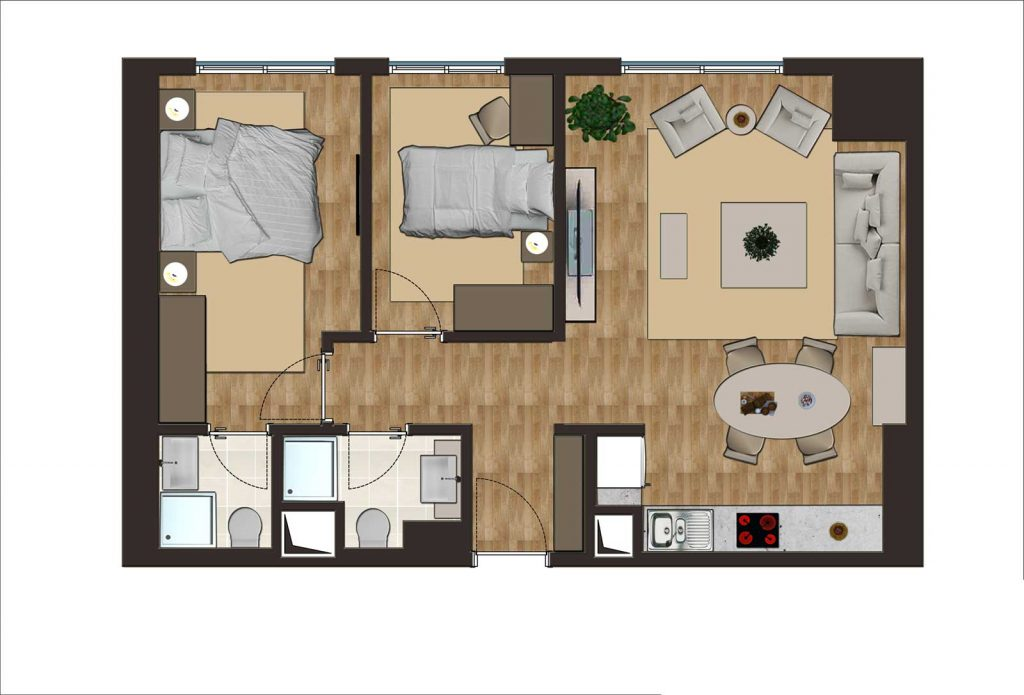room: (552, 52, 908, 566), (147, 55, 375, 345), (145, 53, 373, 343), (361, 55, 565, 346), (271, 424, 475, 569), (147, 422, 284, 569)
